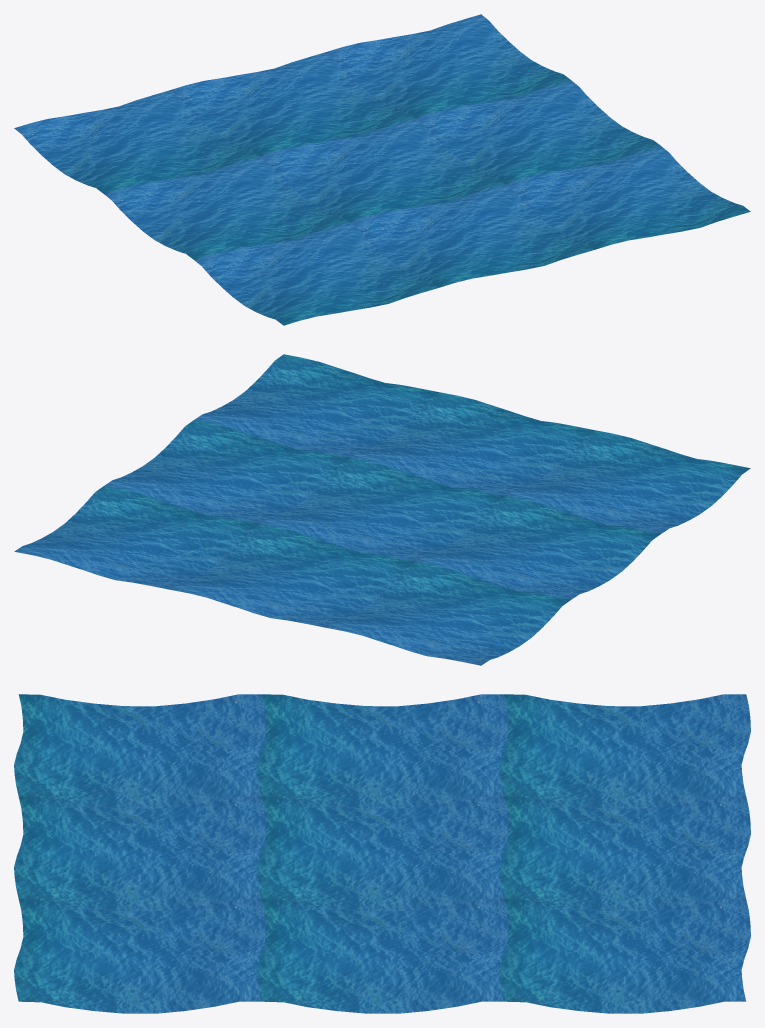
File: ocean_000060.obj
The picture shows the model from 3 angles, top to bottom: view 1: azimuth 30°, elevation 25°; view 2: azimuth 150°, elevation 25°; view 3: azimuth 270°, elevation 25°; orthographic projection. The views are drawn at different scales.
Visible parts, largest first — view 1: Ocean_Plan.001; view 2: Ocean_Plan.001; view 3: Ocean_Plan.001.
Part boxes in pixels (<box>): Ocean_Plan.001: <box>14,14,750,325</box>; Ocean_Plan.001: <box>14,354,750,665</box>; Ocean_Plan.001: <box>14,694,750,1013</box>.
Bounding box in the file's own units: 109170 × 2164 × 110373.
Materials: 1 (1 with a texture image).
